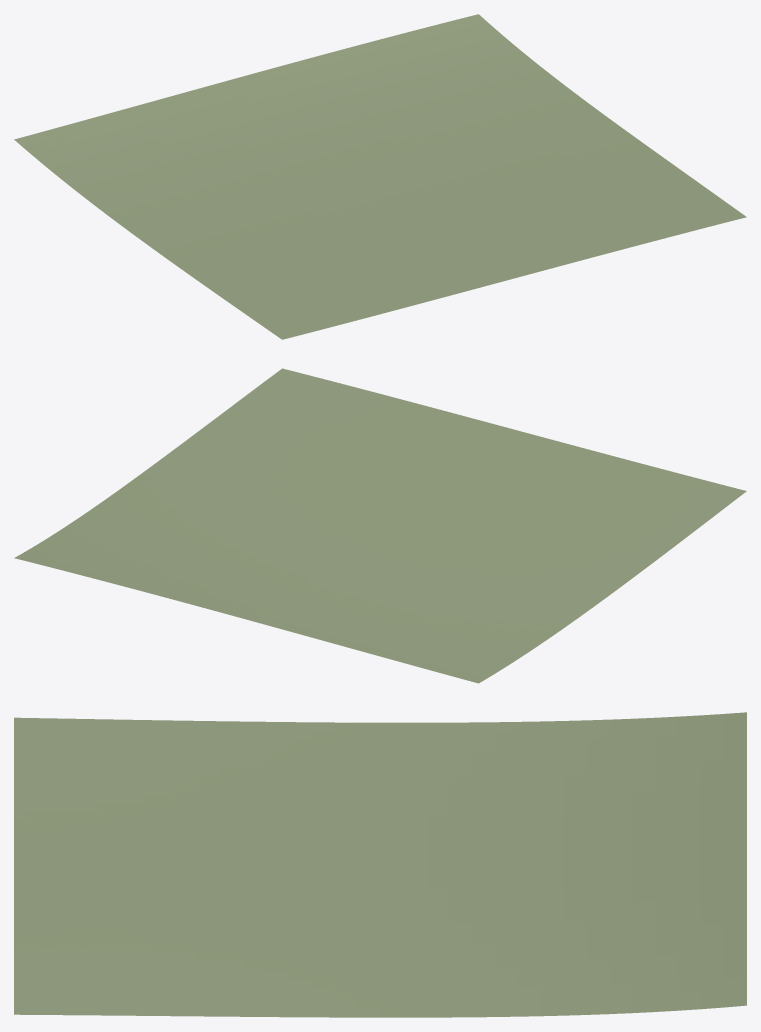
File: expanse-24-31.glb
3 views of the same model, one above another, from view 1: azimuth 30°, elevation 25°; view 2: azimuth 150°, elevation 25°; view 3: azimuth 270°, elevation 25° (orthographic). The views are drawn at different scales.
Parts seen in each view (by area): view 1: expanse-24-31; view 2: expanse-24-31; view 3: expanse-24-31.
Boxes of the visible parts, box(x1,y1,x2,y2) form: expanse-24-31: box(14, 14, 746, 339); expanse-24-31: box(14, 368, 746, 683); expanse-24-31: box(14, 712, 746, 1017).
Bounding box in the file's own units: 256 × 10.36 × 256.
